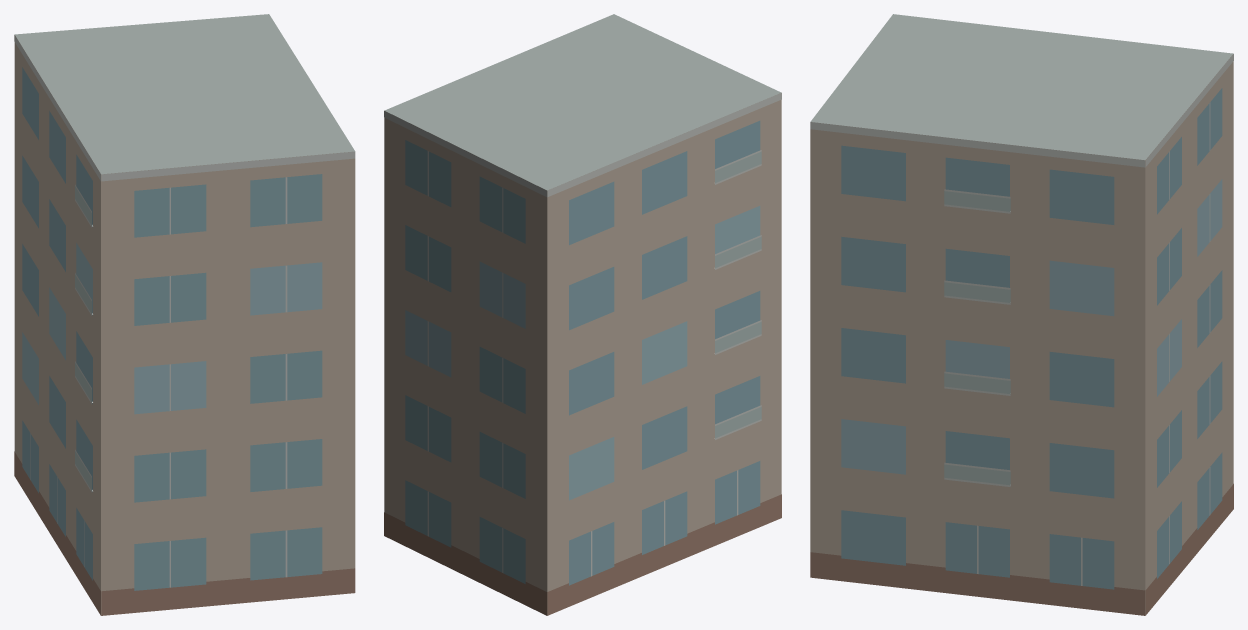
The model's file is survey-upis-32880270.glb.
The picture shows the model from 3 angles, left to right: view 1: azimuth 30°, elevation 25°; view 2: azimuth 150°, elevation 25°; view 3: azimuth 270°, elevation 25°; orthographic projection. The views are drawn at different scales.
Parts seen in each view (by area): view 1: survey-upis-32880270.tmp; view 2: survey-upis-32880270.tmp; view 3: survey-upis-32880270.tmp.
Boxes of the visible parts, x1=… form: survey-upis-32880270.tmp: x1=14, y1=14, x2=355, y2=615; survey-upis-32880270.tmp: x1=384, y1=14, x2=781, y2=615; survey-upis-32880270.tmp: x1=810, y1=14, x2=1233, y2=615.
Size of the model in its own units: 10.4 by 15.1 by 12.73.
